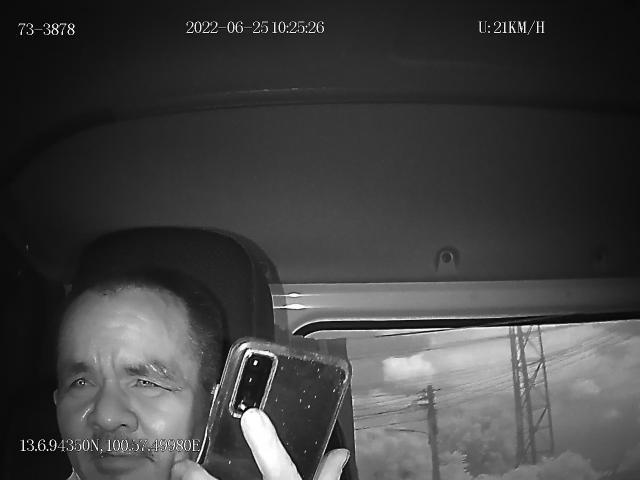PhoneUse: (202, 338, 352, 480)
SafeDriving: (124, 364, 174, 398), (62, 364, 102, 399)
